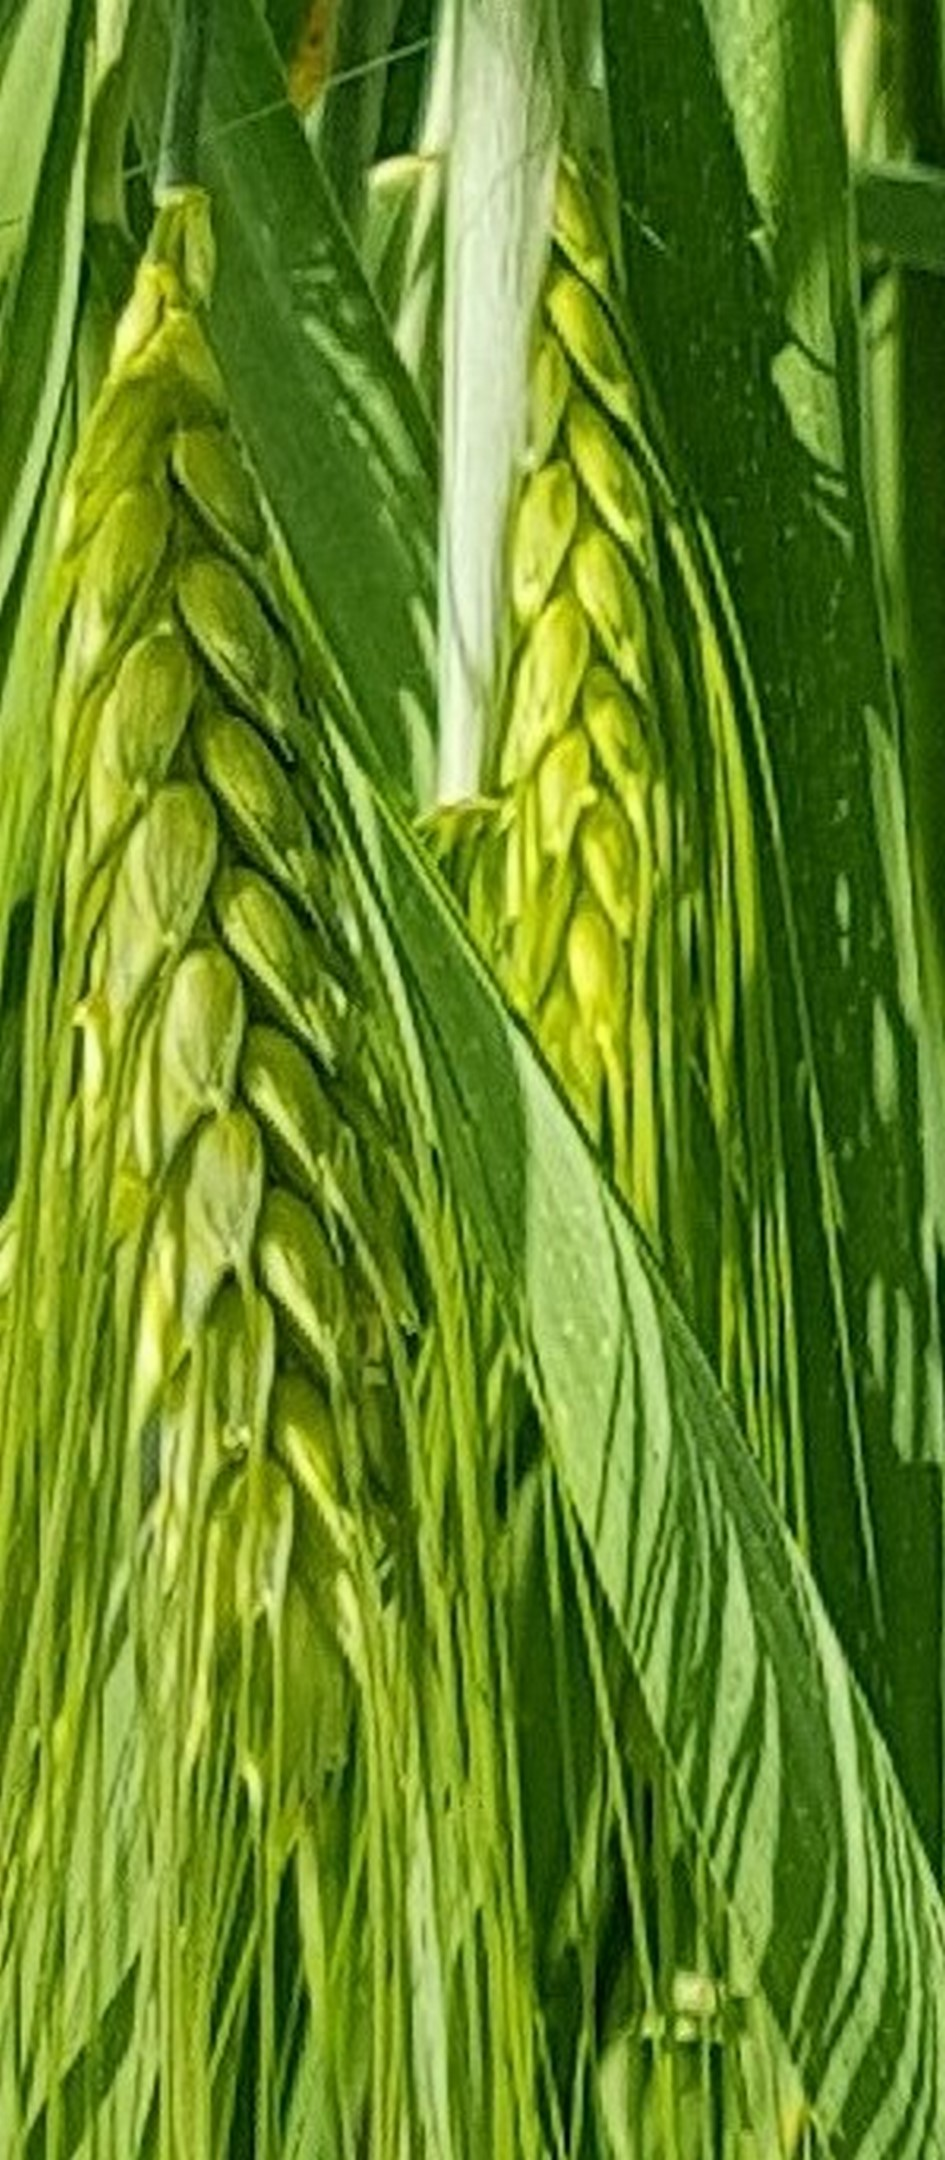Healthy Wheat: (12, 296, 422, 1665)
